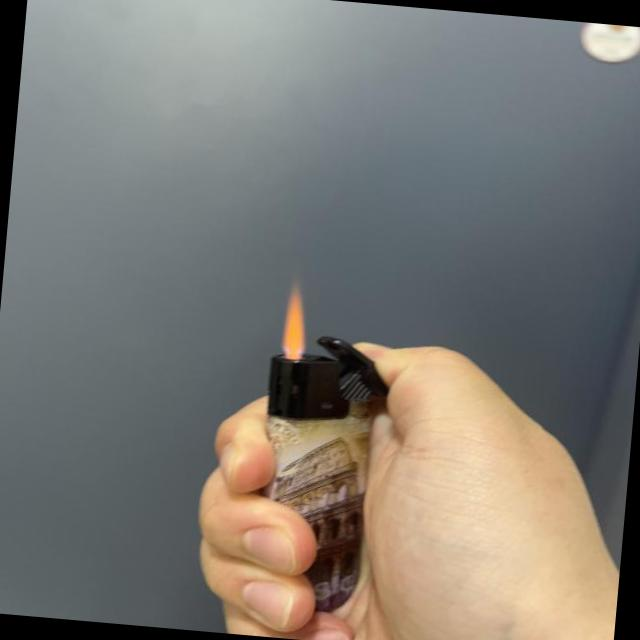Fire: (277, 273, 313, 361)
